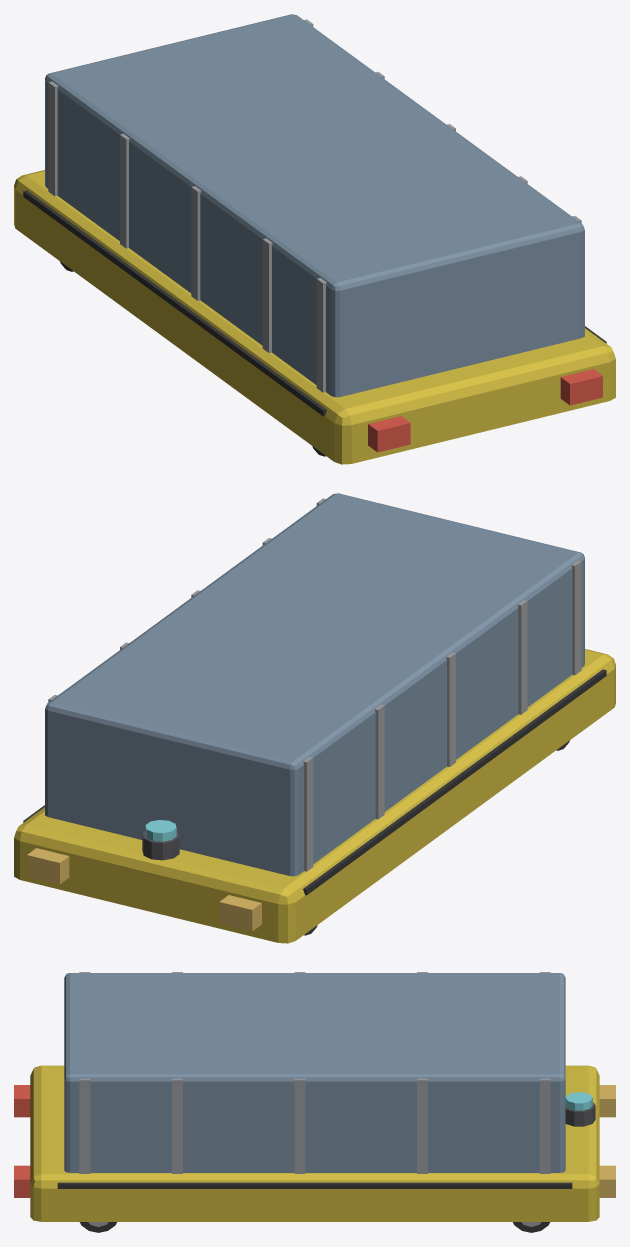
File: rn2-fabrica-car.glb
3 renders of one model, top to bottom at view 1: azimuth 30°, elevation 25°; view 2: azimuth 150°, elevation 25°; view 3: azimuth 270°, elevation 25°, orthographic. The views are drawn at different scales.
Visible parts, largest first — view 1: rn2_fabrica_car_body, rn2_fabrica_car_glow; view 2: rn2_fabrica_car_body, rn2_fabrica_car_glow; view 3: rn2_fabrica_car_body, rn2_fabrica_car_glow.
Boxes of the visible parts, box(x1,y1,x2,y2) form: rn2_fabrica_car_body: box(14, 14, 615, 464); rn2_fabrica_car_glow: box(27, 171, 602, 452); rn2_fabrica_car_body: box(14, 493, 615, 943); rn2_fabrica_car_glow: box(27, 650, 602, 931); rn2_fabrica_car_body: box(30, 972, 599, 1232); rn2_fabrica_car_glow: box(14, 1085, 615, 1197).
Size of the model in its own units: 2.06 by 1.28 by 4.42.
